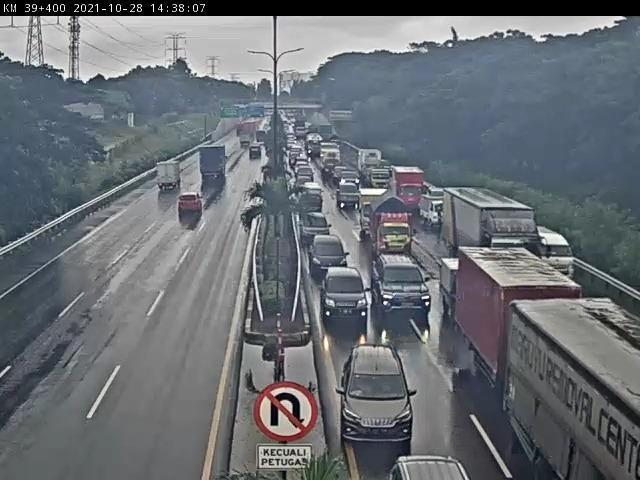bus: (535, 223, 587, 284)
car: (334, 340, 437, 455), (376, 251, 431, 336), (322, 264, 381, 335), (311, 235, 351, 287), (168, 188, 211, 231), (301, 210, 335, 245), (341, 185, 362, 214), (299, 195, 327, 216), (248, 143, 267, 161), (306, 183, 324, 201), (343, 174, 364, 189), (296, 176, 315, 192), (298, 169, 317, 182)
truck: (505, 290, 640, 480), (460, 242, 595, 409), (445, 190, 542, 281), (373, 192, 418, 262), (444, 255, 478, 316), (193, 138, 234, 185), (362, 190, 396, 240), (358, 151, 401, 189), (395, 166, 429, 209), (151, 154, 183, 197), (423, 194, 457, 230)
